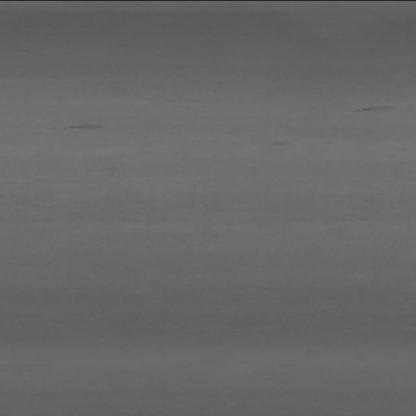water_spot: (330, 97, 397, 117), (64, 114, 112, 138), (252, 128, 295, 152)
